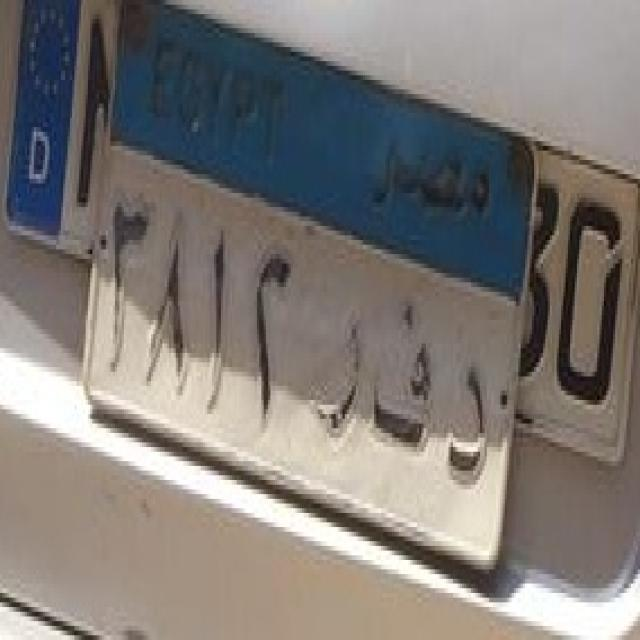1: (208, 222, 230, 421)
2: (241, 236, 294, 434)
3: (104, 182, 152, 392)
8: (145, 206, 196, 405)
F: (366, 292, 444, 460)
R: (309, 298, 367, 452)
daal: (442, 343, 496, 498)
